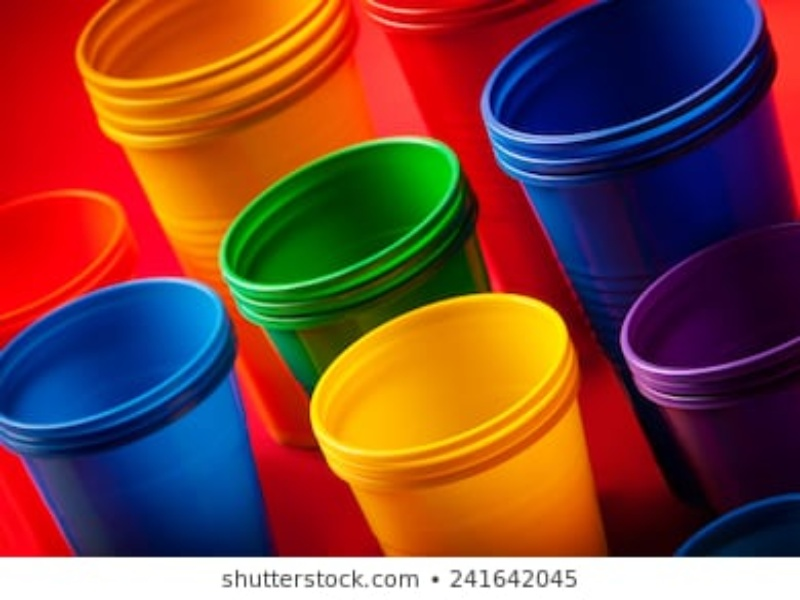plastic-cup: (477, 2, 800, 357), (367, 2, 684, 355), (69, 1, 385, 272), (315, 292, 611, 558), (5, 274, 271, 555), (213, 134, 503, 376), (622, 221, 798, 526), (1, 180, 146, 344)
